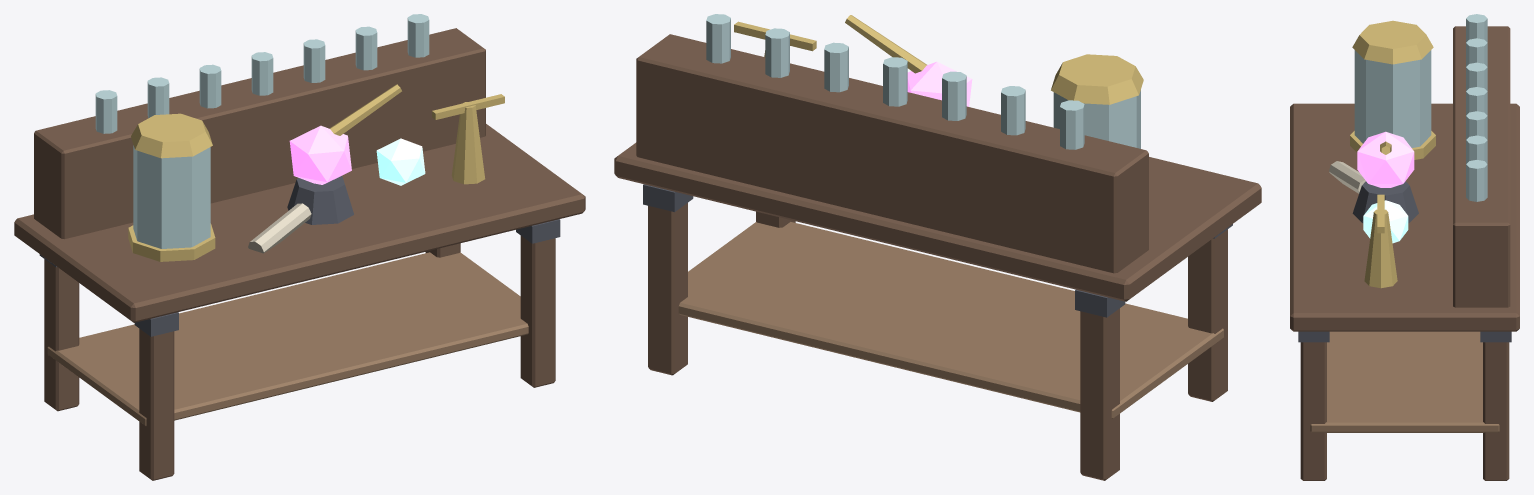
File: castle_alchemy.glb
3 views of the same model, side by side, from view 1: azimuth 30°, elevation 25°; view 2: azimuth 150°, elevation 25°; view 3: azimuth 270°, elevation 25° (orthographic). The views are drawn at different scales.
Parts seen in each view (by area): view 1: Castle_Alchemy; view 2: Castle_Alchemy; view 3: Castle_Alchemy.
Boxes of the visible parts, box(x1,y1,x2,y2) form: Castle_Alchemy: box(14, 14, 585, 480); Castle_Alchemy: box(614, 14, 1261, 480); Castle_Alchemy: box(1290, 14, 1519, 480).
Bounding box in the file's own units: 2.69 × 1.74 × 1.23.
